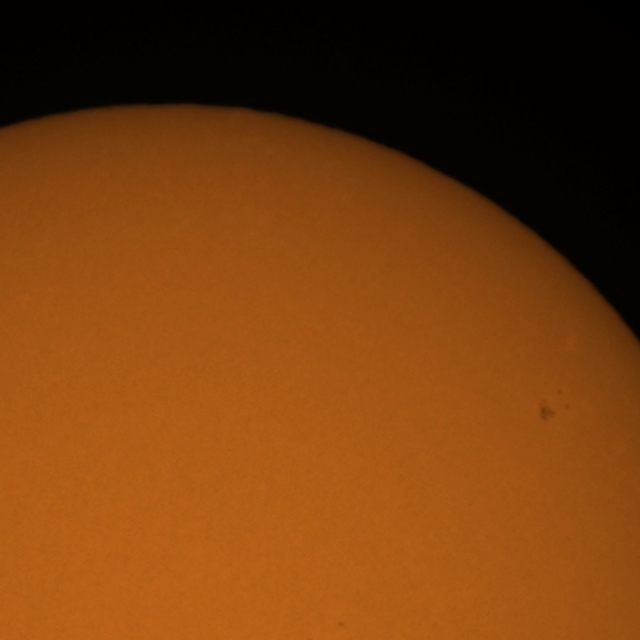sunspot: (538, 388, 570, 423), (538, 399, 558, 423), (337, 620, 346, 630)
